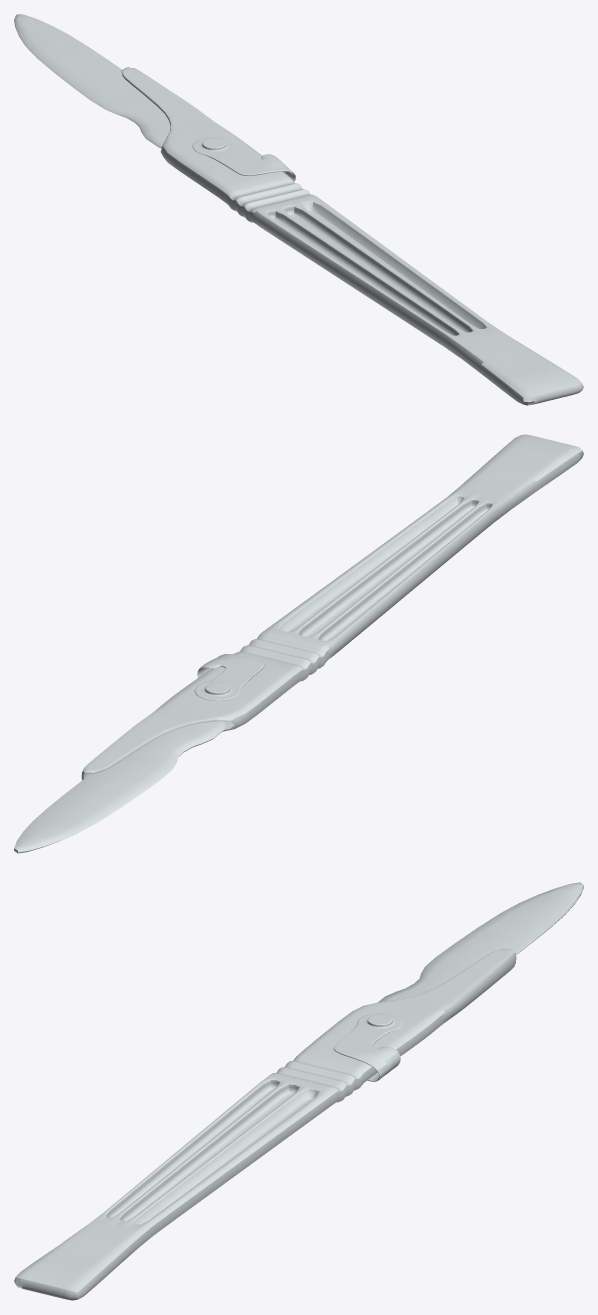
The model's file is shoushudao.fbx.
The picture shows the model from 3 angles, top to bottom: view 1: azimuth 30°, elevation 25°; view 2: azimuth 150°, elevation 25°; view 3: azimuth 330°, elevation 25°; orthographic projection. The views are drawn at different scales.
Visible parts, largest first — view 1: shoushudao; view 2: shoushudao; view 3: shoushudao.
Boxes of the visible parts, x1=… form: shoushudao: x1=14, y1=14, x2=583, y2=405; shoushudao: x1=14, y1=434, x2=583, y2=853; shoushudao: x1=14, y1=882, x2=583, y2=1300.
Size of the model in its own units: 2.45 by 0.7929 by 28.03.
